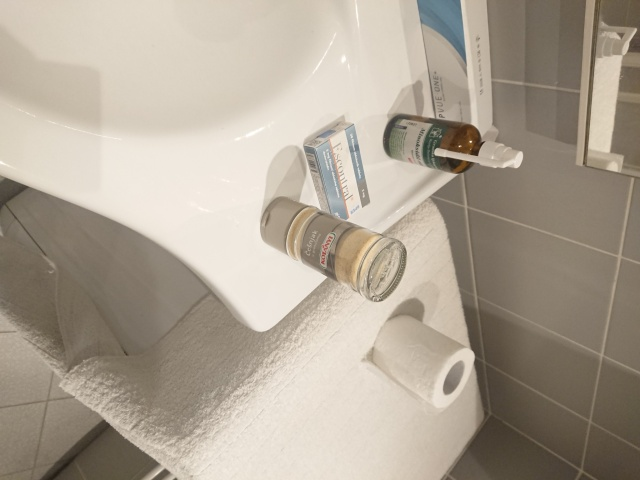Kotanyi Garlic Granules 70g: (258, 195, 409, 304)
